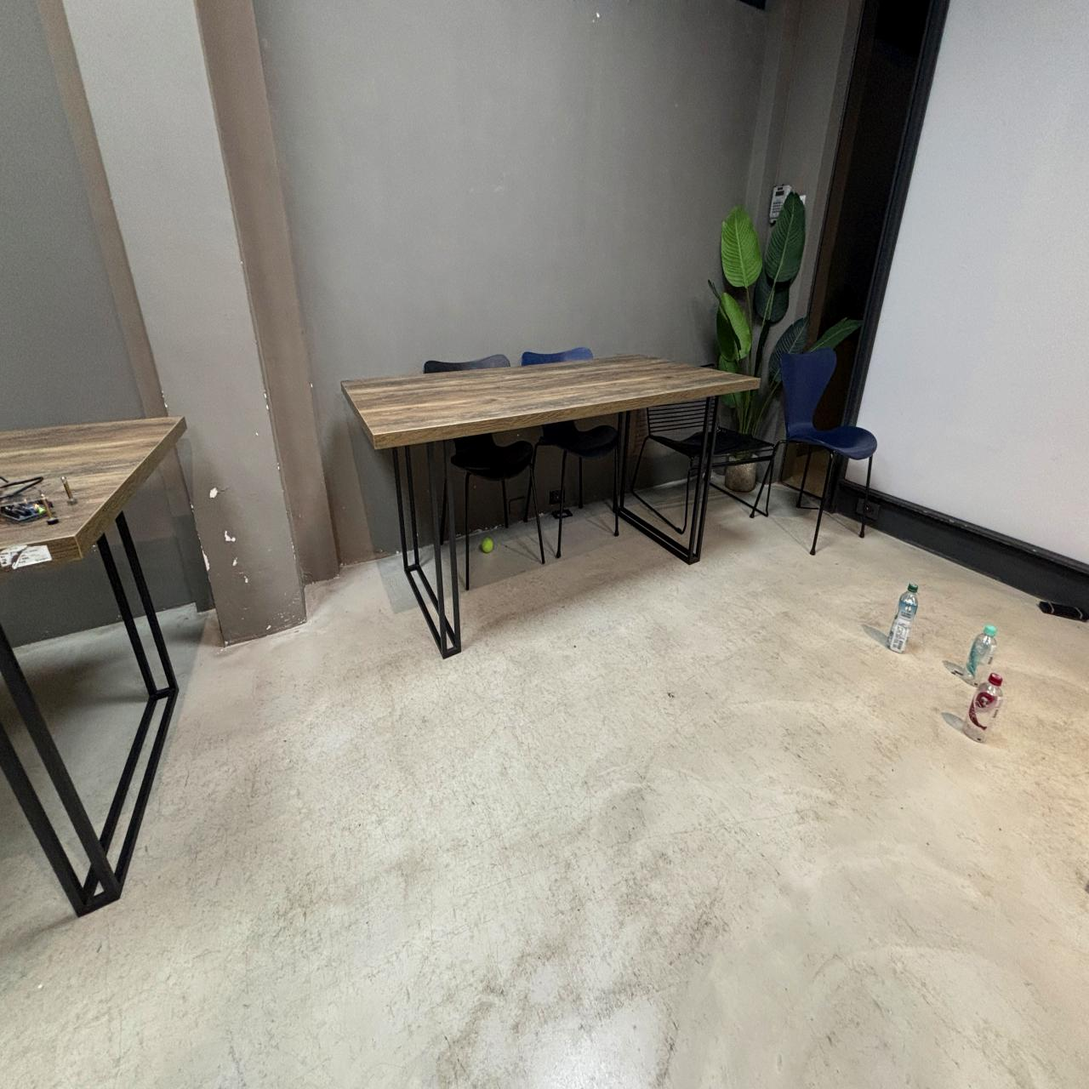plastic-bottle: (963, 673, 1002, 741), (888, 584, 918, 653), (966, 624, 997, 681)
tennisball: (481, 538, 493, 553)
